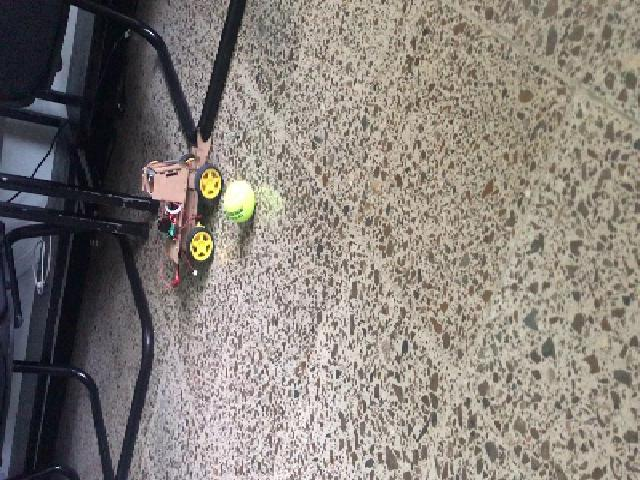Ball: (219, 181, 254, 222)
Robot: (141, 133, 222, 266)
